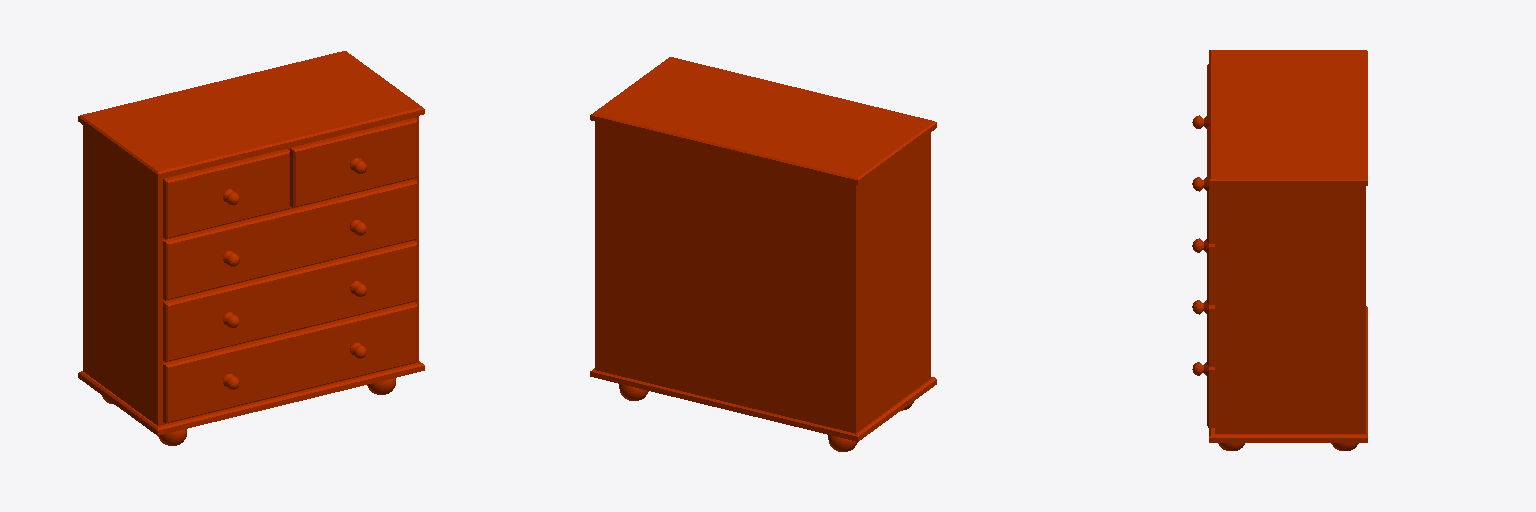
File: petiteCommode.obj
3 renders of one model, left to right at view 1: azimuth 30°, elevation 25°; view 2: azimuth 150°, elevation 25°; view 3: azimuth 270°, elevation 25°, orthographic.
Parts seen in each view (by area): view 1: corniche_haute, corps, tiroir_3, tiroir_bas_1, tiroir_2, tiroir_4g, tiroir_4d, corniche_basse; view 2: corps, corniche_haute, corniche_basse; view 3: corps, corniche_haute, corniche_basse, tiroir_4d.
Boxes of the visible parts, x1,y1,x2,y2 form: corniche_haute: [78, 51, 424, 179]; corps: [83, 116, 418, 425]; tiroir_3: [163, 179, 416, 300]; tiroir_bas_1: [163, 302, 416, 423]; tiroir_2: [163, 241, 416, 361]; tiroir_4g: [163, 149, 289, 238]; tiroir_4d: [290, 118, 416, 207]; corniche_basse: [78, 361, 424, 435]; corps: [595, 122, 930, 433]; corniche_haute: [590, 57, 936, 185]; corniche_basse: [590, 368, 936, 441]; corps: [1215, 186, 1365, 433]; corniche_haute: [1209, 50, 1367, 185]; corniche_basse: [1209, 306, 1367, 442]; tiroir_4d: [1207, 126, 1214, 243].
Bounding box in the file's own units: 82 × 83 × 46.44.